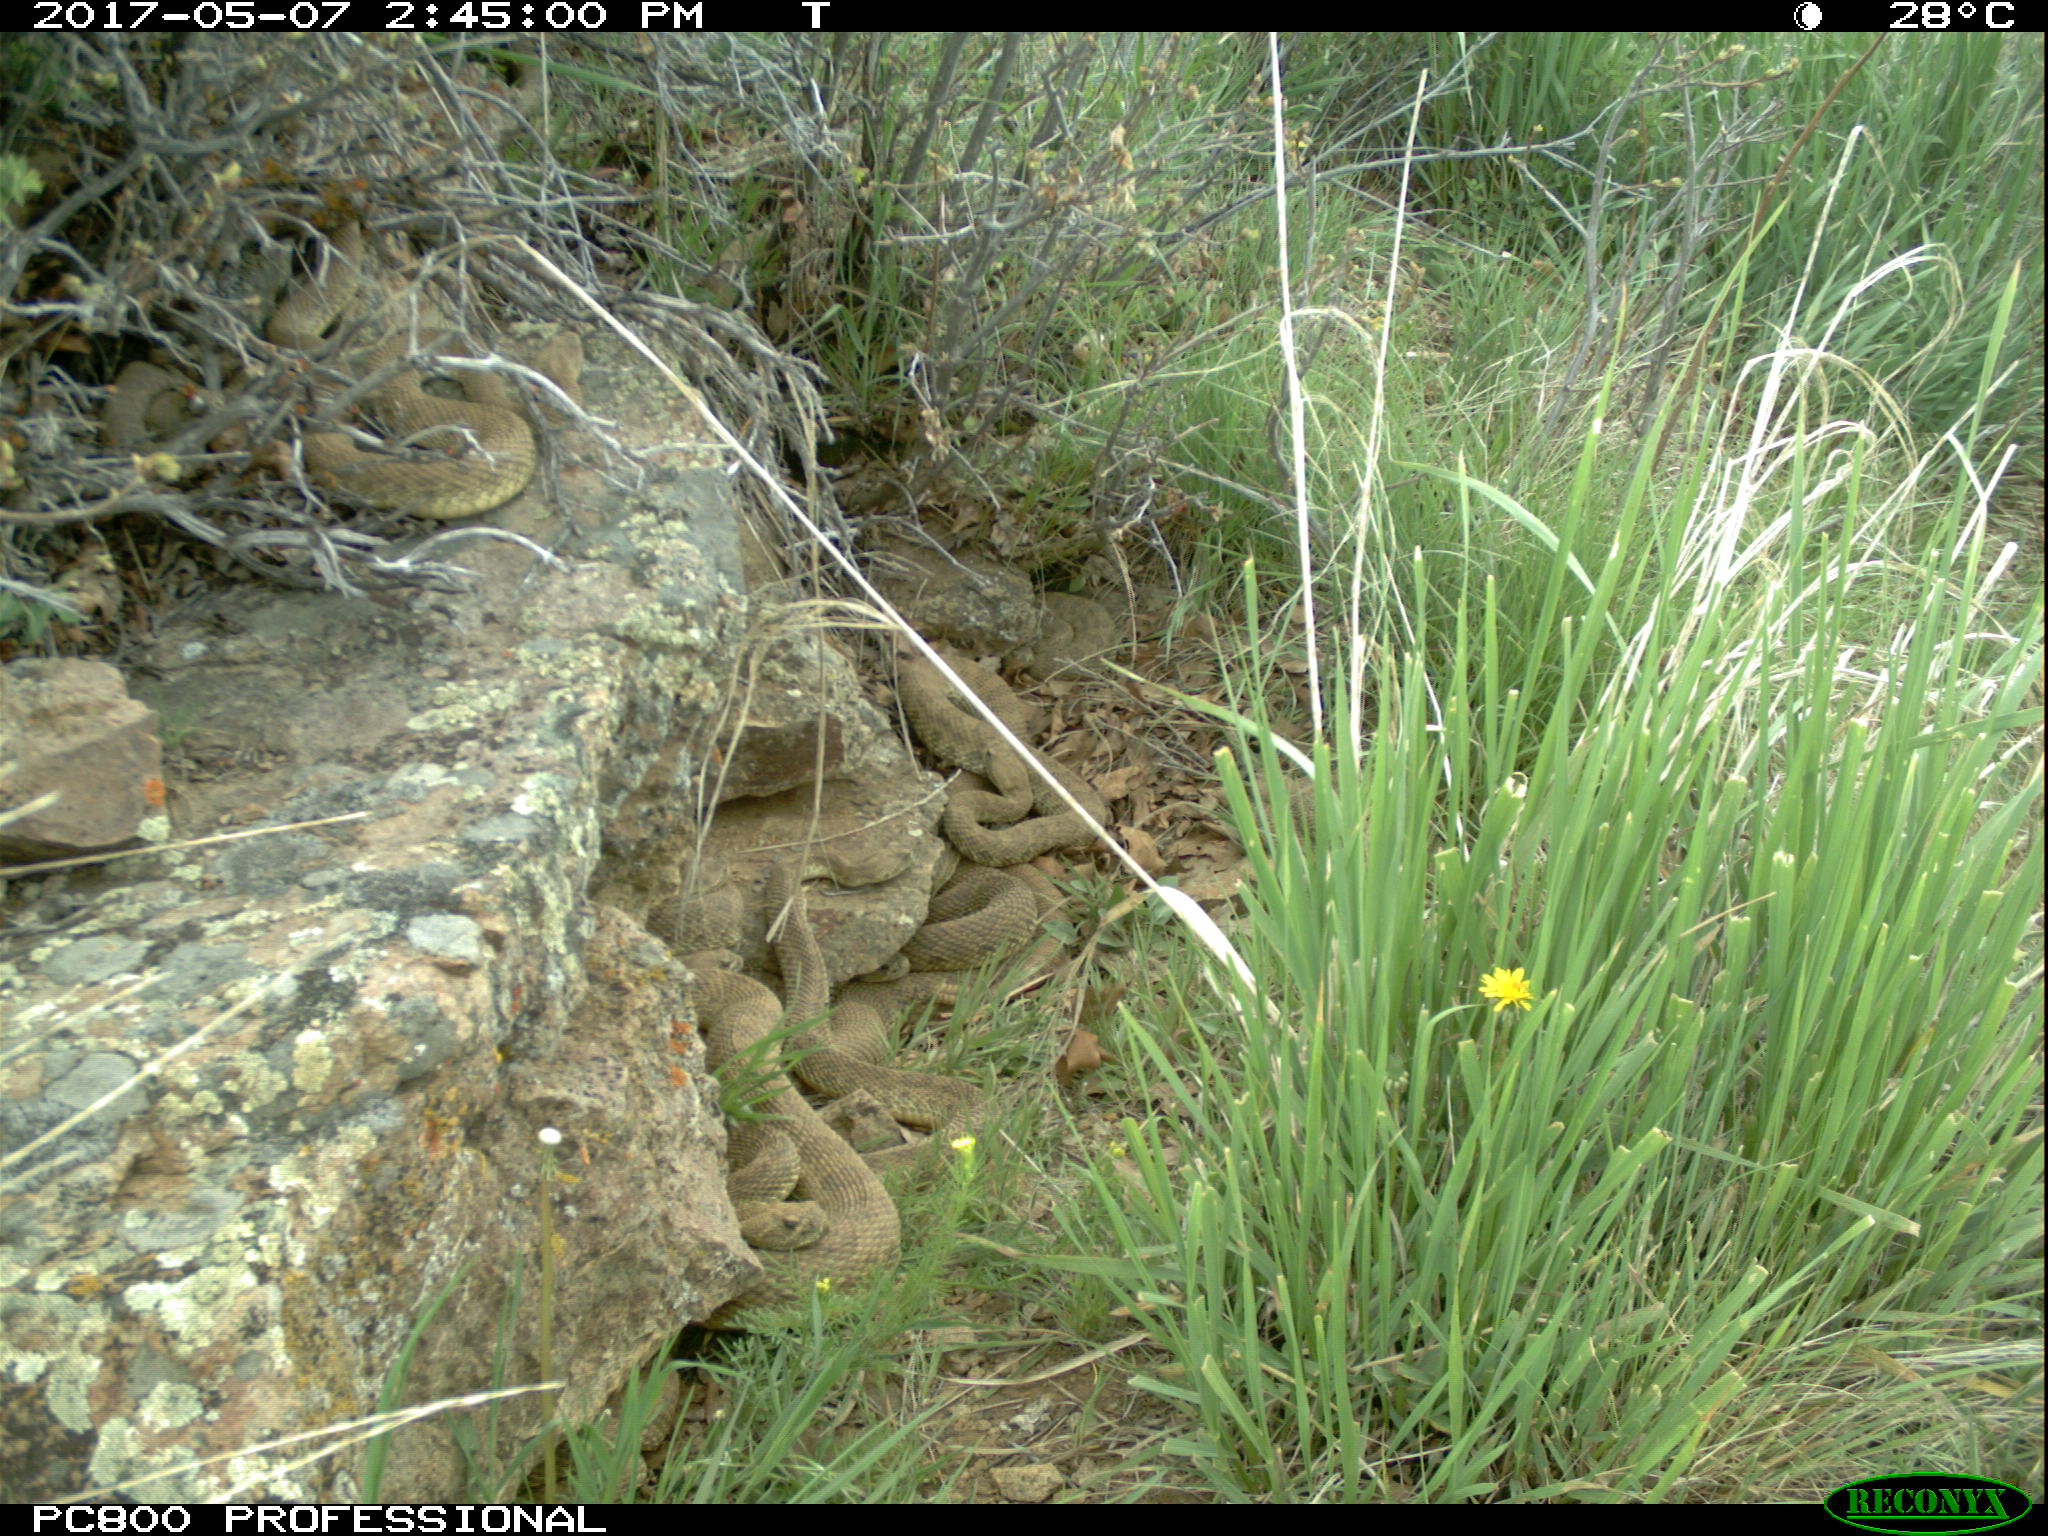snake: (90, 332, 548, 524), (677, 945, 905, 1321), (897, 641, 1121, 866), (269, 207, 448, 386), (916, 854, 1085, 994), (761, 849, 926, 941), (597, 1365, 692, 1496)
